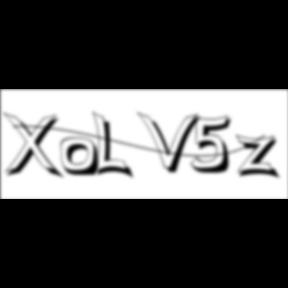5: (190, 114, 238, 176)
L: (93, 110, 137, 182)
V: (138, 110, 204, 176)
X: (2, 112, 66, 182)
o: (60, 137, 102, 179)
z: (236, 134, 284, 182)
